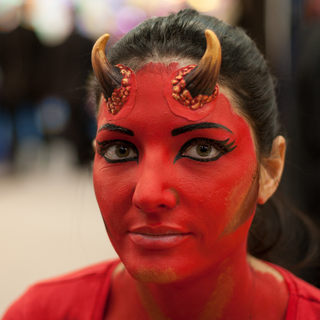eye: (172, 136, 227, 165), (96, 138, 142, 167)
